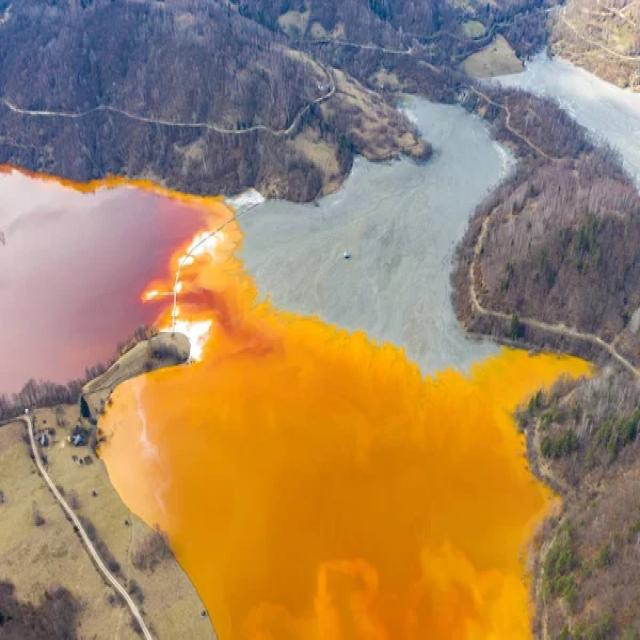yellow_boy: (99, 223, 588, 638), (0, 165, 229, 385)
